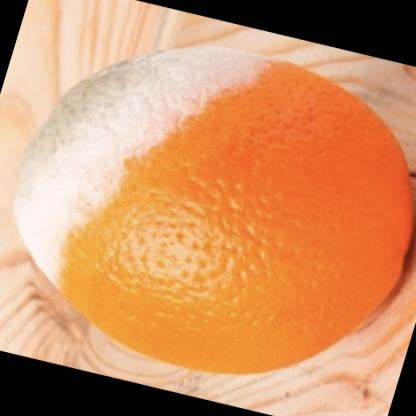rotten: (14, 48, 414, 375)
